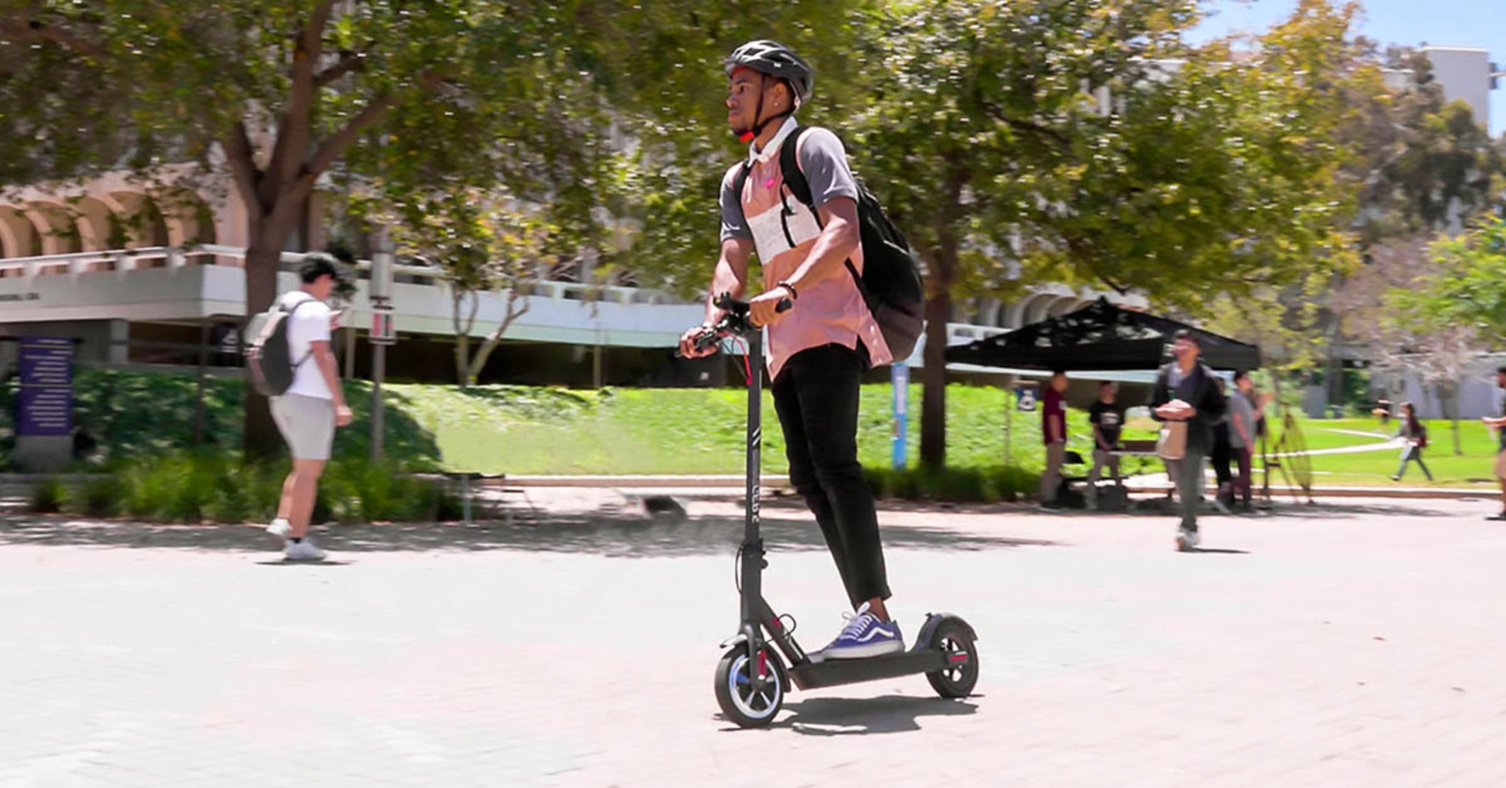helmet: (718, 43, 811, 147)
human: (677, 38, 896, 650)
kickboard: (707, 630, 983, 727)
